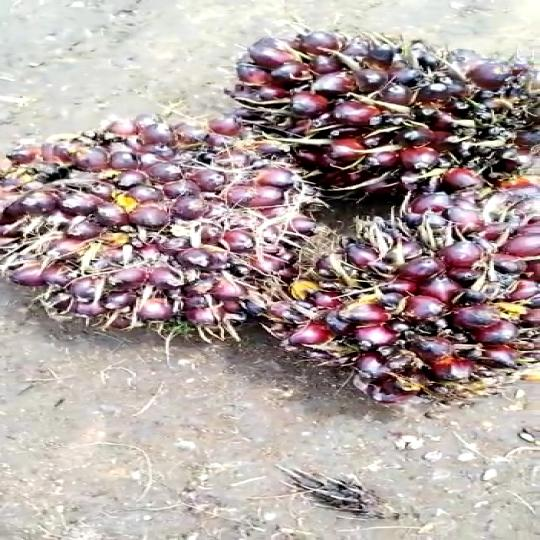kurang masak: (7, 127, 324, 346), (203, 27, 540, 212), (258, 184, 540, 400)
